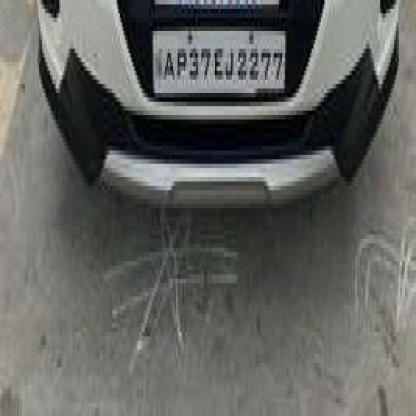license_plate: (151, 26, 284, 93)
